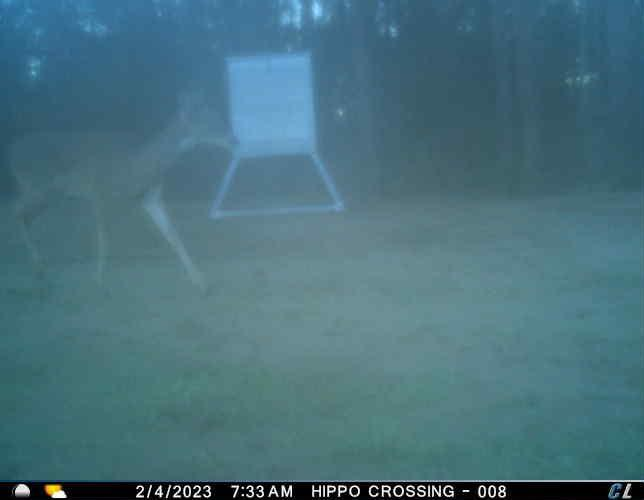Deer: (9, 81, 241, 299)
